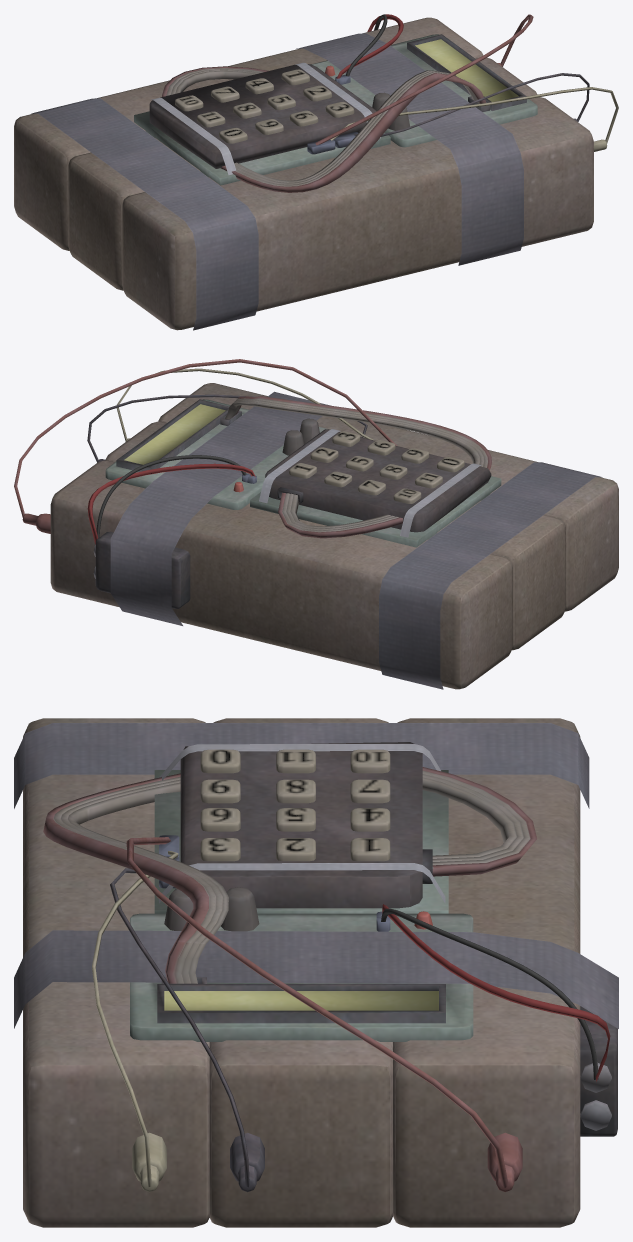
File: field_kit_c4.glb
The picture shows the model from 3 angles, top to bottom: view 1: azimuth 30°, elevation 25°; view 2: azimuth 150°, elevation 25°; view 3: azimuth 270°, elevation 25°; orthographic projection. The views are drawn at different scales.
Visible parts, largest first — view 1: C4Housing; view 2: C4Housing; view 3: C4Housing.
Part boxes in pixels (box(x1,y1,x2,y2)): C4Housing: box(14, 14, 618, 330); C4Housing: box(14, 359, 618, 689); C4Housing: box(14, 718, 618, 1227).
Bounding box in the file's own units: 3.25 × 1.11 × 2.08.
Materials: 1 (1 with a texture image).
